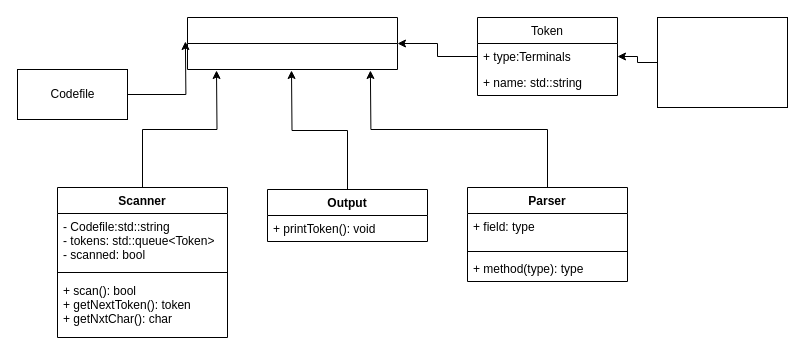
This 805x358 diagram has some shape labels left out. The centre of each missing label's shape, as x and y in pixels:
enum Terminals (enthält auch ERROR und FINISH): the point at 722,62
main(): the point at 292,43
